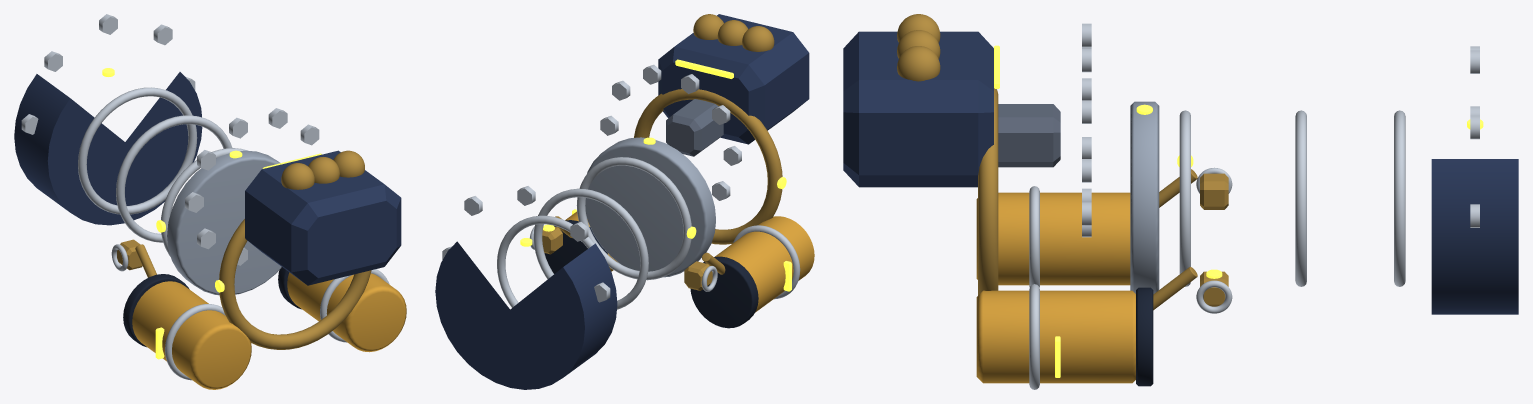
Rendered from tower_nova_damage_s8.glb.
3 views of the same model, side by side, from view 1: azimuth 30°, elevation 25°; view 2: azimuth 150°, elevation 25°; view 3: azimuth 270°, elevation 25° (orthographic). The views are drawn at different scales.
Visible parts, largest first — view 1: nova_brake_shroud, nova_cluster_hopper, nova_jacket_collar, nova_napalm_can_r, nova_napalm_can_l, nova_pressure_ring, nova_tube_band1.36, nova_tube_band1.02, nova_jacket_bolts, nova_brake_shroud_bolts, nova_napalm_cap_r, nova_tube_band0.62 (+7 smaller); view 2: nova_brake_shroud, nova_jacket_collar, nova_cluster_hopper, nova_napalm_can_r, nova_pressure_ring, nova_napalm_cap_r, nova_tube_band0.62, nova_tube_band1.02, nova_cluster_feed, nova_jacket_bolts, nova_tube_band1.36, nova_brake_shroud_bolts (+8 smaller); view 3: nova_cluster_hopper, nova_napalm_can_l, nova_brake_shroud, nova_napalm_can_r, nova_jacket_collar, nova_cluster_feed, nova_pressure_ring, nova_tube_band1.02, nova_tube_band1.36, nova_tube_band0.62, nova_jacket_bolts, nova_napalm_cap_l (+10 smaller).
Boxes of the visible parts, box(x1,y1,x2,y2) form: nova_brake_shroud: box(14, 72, 202, 225); nova_cluster_hopper: box(245, 150, 401, 285); nova_jacket_collar: box(167, 150, 281, 295); nova_napalm_can_r: box(132, 281, 251, 389); nova_napalm_can_l: box(287, 272, 406, 352); nova_pressure_ring: box(219, 219, 371, 349); nova_tube_band1.36: box(78, 87, 197, 214); nova_tube_band1.02: box(116, 115, 232, 242); nova_jacket_bolts: box(185, 108, 319, 265); nova_brake_shroud_bolts: box(21, 14, 195, 134); nova_napalm_cap_r: box(123, 274, 189, 347); nova_tube_band0.62: box(161, 148, 248, 256); nova_brake_shroud: box(435, 241, 617, 389); nova_jacket_collar: box(585, 137, 715, 277); nova_cluster_hopper: box(658, 14, 809, 144); nova_napalm_can_r: box(715, 216, 814, 312); nova_pressure_ring: box(634, 89, 782, 244); nova_napalm_cap_r: box(690, 256, 758, 328); nova_tube_band0.62: box(576, 157, 691, 280); nova_tube_band1.02: box(533, 188, 648, 309); nova_cluster_feed: box(666, 99, 723, 156); nova_jacket_bolts: box(600, 64, 741, 200); nova_tube_band1.36: box(497, 215, 594, 307); nova_brake_shroud_bolts: box(442, 186, 610, 302); nova_cluster_hopper: box(843, 31, 993, 187); nova_napalm_can_l: box(976, 290, 1135, 383); nova_brake_shroud: box(1431, 159, 1518, 314); nova_napalm_can_r: box(976, 192, 1130, 285); nova_jacket_collar: box(1130, 101, 1159, 294); nova_cluster_feed: box(998, 104, 1060, 167); nova_pressure_ring: box(978, 88, 998, 295); nova_tube_band1.02: box(1295, 110, 1306, 286); nova_tube_band1.36: box(1394, 110, 1405, 286); nova_tube_band0.62: box(1179, 110, 1190, 286); nova_jacket_bolts: box(1082, 23, 1091, 237); nova_napalm_cap_l: box(1136, 287, 1153, 386).
Bounding box in the file's own units: 1.17 × 1.16 × 2.33.
